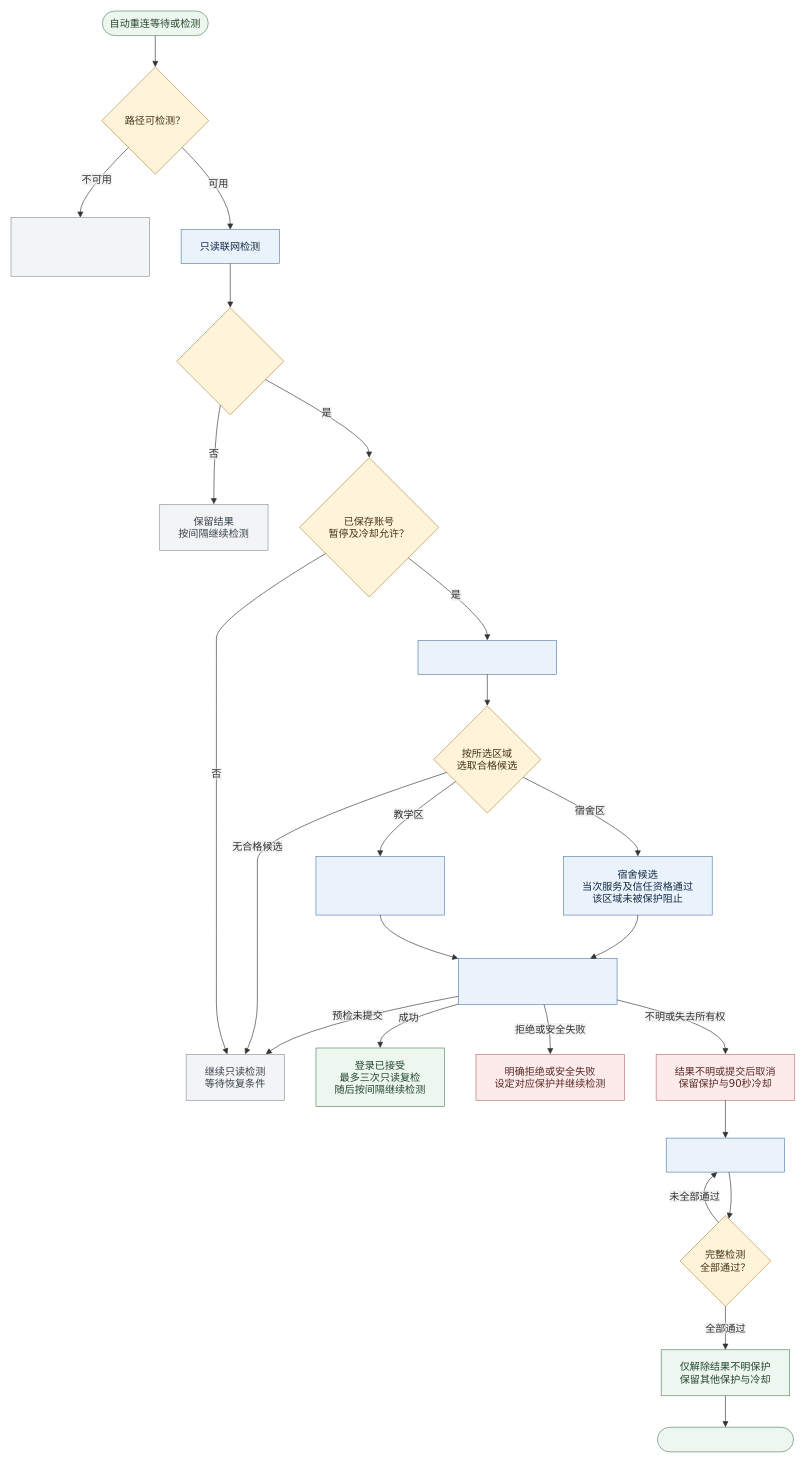
This 806x1463 diagram has some shape labels left out. The shapes that lost their labels are listed below. From the top down, each one's centre as x and y in pixels, then its label:
[80,246]: 等待路径恢复 无物理连接时可选找网 开 Wi-Fi 须另外允许
[230,361]: 达到自动恢复 触发条件？
[487,657]: 重新核验当次校园服务
[379,885]: 教学候选 当次教学服务已确认 该区域未被保护阻止
[537,981]: 预检与挑战 每轮最多一次正式凭据提交
[725,1154]: 后续完整只读检测
[725,1439]: 显示结果与下一次检测安排
